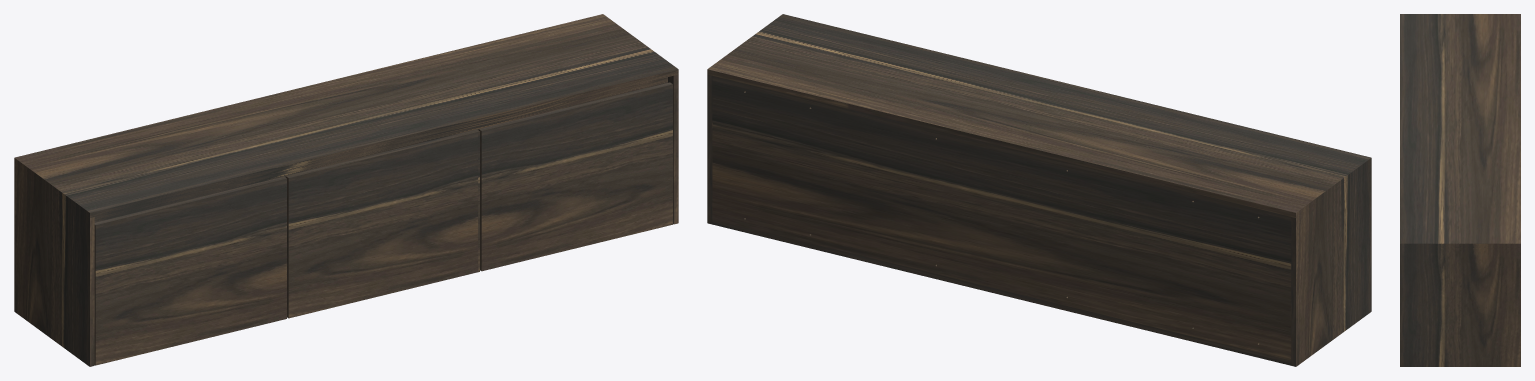
Rendered from 031.1_Consola-de-TV.glb.
3 renders of one model, left to right at view 1: azimuth 30°, elevation 25°; view 2: azimuth 150°, elevation 25°; view 3: azimuth 270°, elevation 25°, orthographic. The views are drawn at different scales.
Parts seen in each view (by area): view 1: root; view 2: root; view 3: root.
Part boxes in pixels (x1,y1,x2,y2): root: (14, 14, 678, 366); root: (707, 14, 1371, 366); root: (1400, 14, 1520, 366).
Bounding box in the file's own units: 1.8 × 0.45 × 0.4.
Materials: 4 (4 with a texture image).
